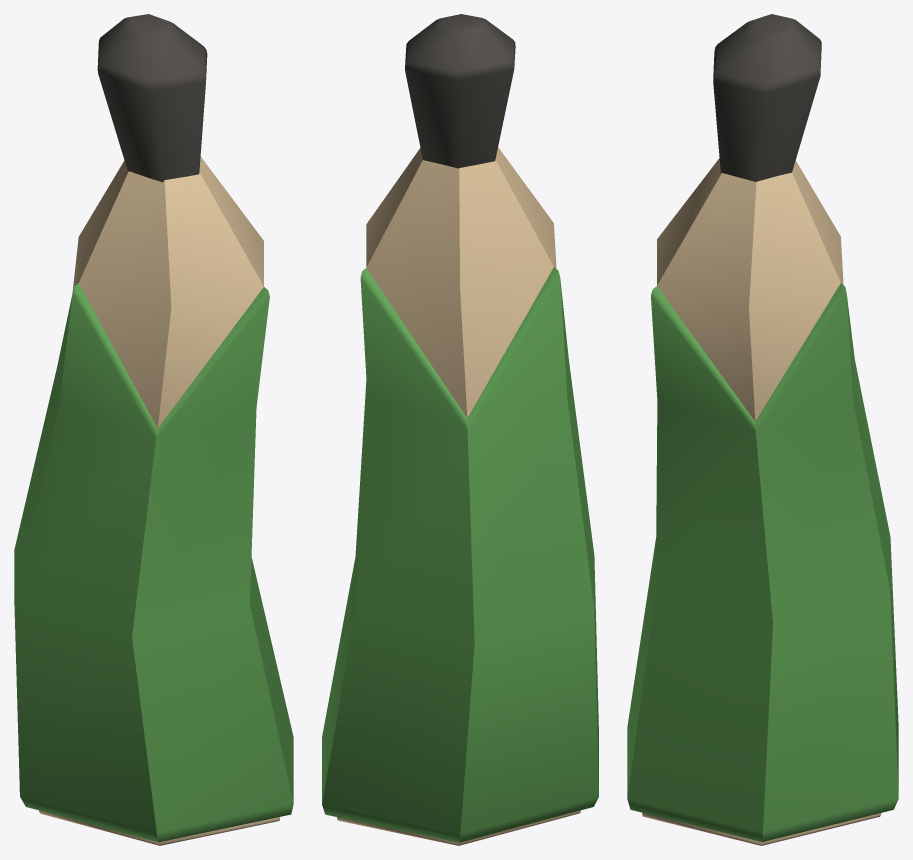
Rendered from props_pen.fbx.
The picture shows the model from 3 angles, left to right: view 1: azimuth 30°, elevation 25°; view 2: azimuth 150°, elevation 25°; view 3: azimuth 270°, elevation 25°; orthographic projection. The views are drawn at different scales.
Parts seen in each view (by area): view 1: Pen.001, Pen.002, Pen; view 2: Pen.001, Pen.002, Pen; view 3: Pen.001, Pen.002, Pen.
Part boxes in pixels (box(x1,y1,x2,y2)): Pen.001: box(14, 283, 293, 842); Pen.002: box(39, 157, 279, 845); Pen: box(97, 14, 207, 182); Pen.001: box(322, 267, 598, 842); Pen.002: box(337, 147, 580, 845); Pen: box(405, 14, 515, 168); Pen.001: box(627, 283, 898, 841); Pen.002: box(642, 158, 881, 845); Pen: box(713, 14, 821, 181).
Bounding box in the file's own units: 37.25 × 101 × 32.21.
